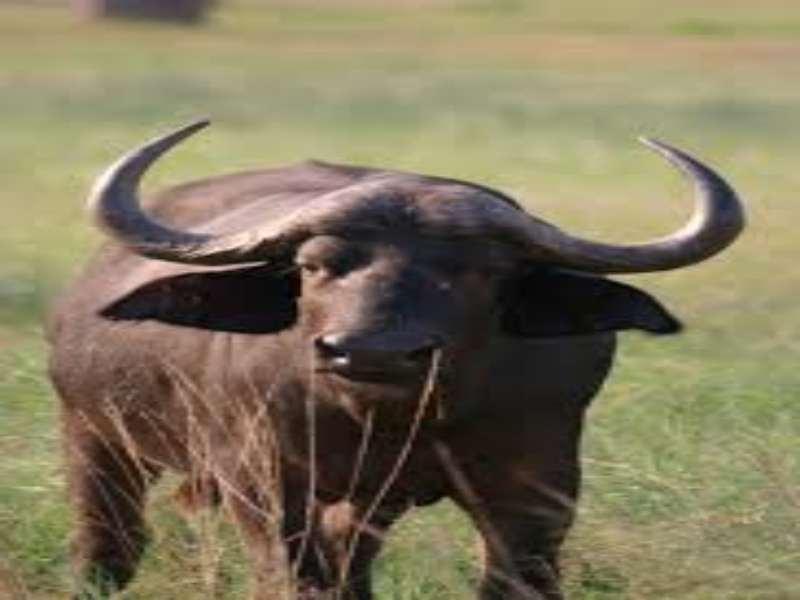buffalo: (43, 100, 747, 588)
